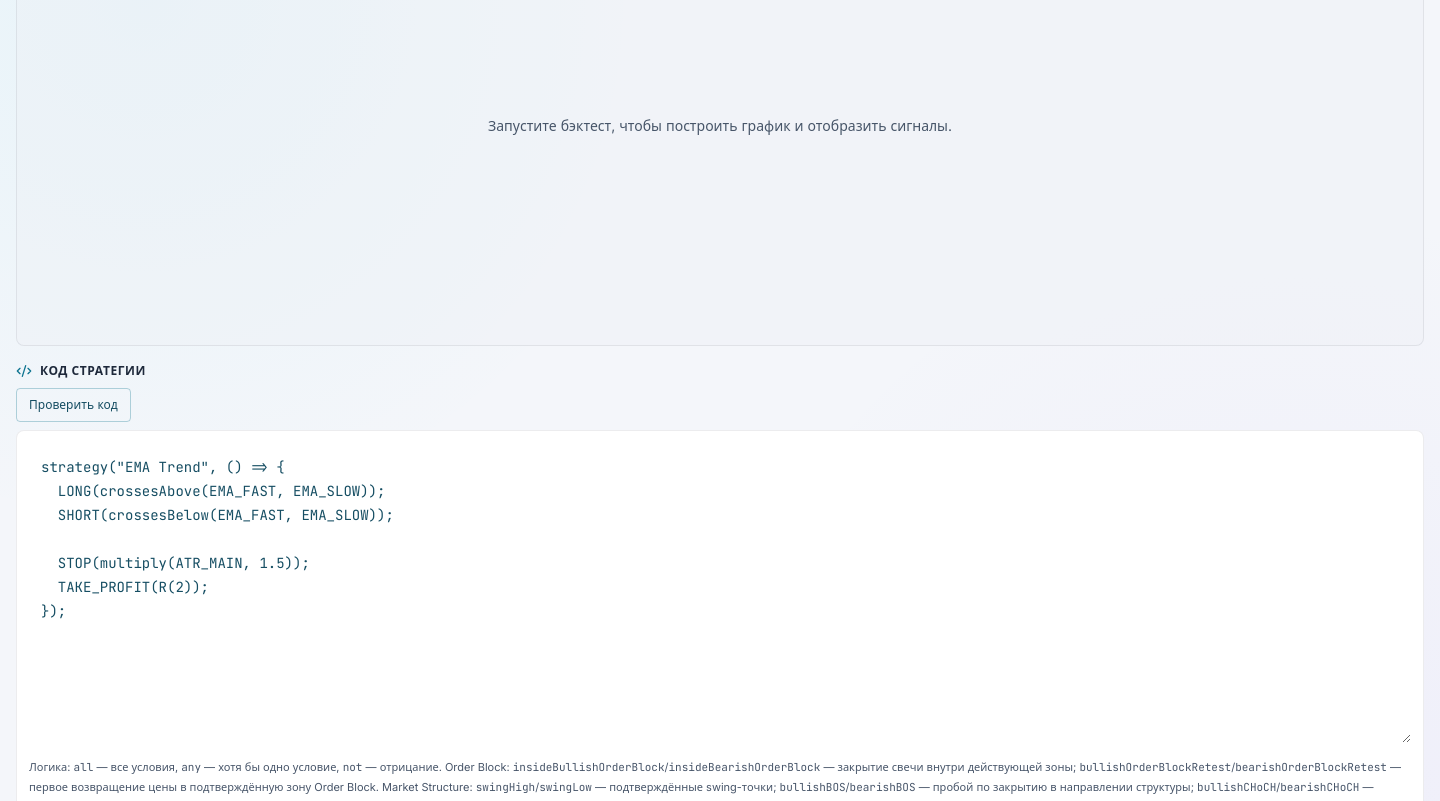
it: A/B. Strategy Lab · code-first страница › H. [Проверить код] подтверждает корректность стартовой стратегии
This screenshot has width=1440, height=801.
(page scrolled)
Click the button "Проверить код": (73, 405) [16,388,131,422]
(page scrolled)
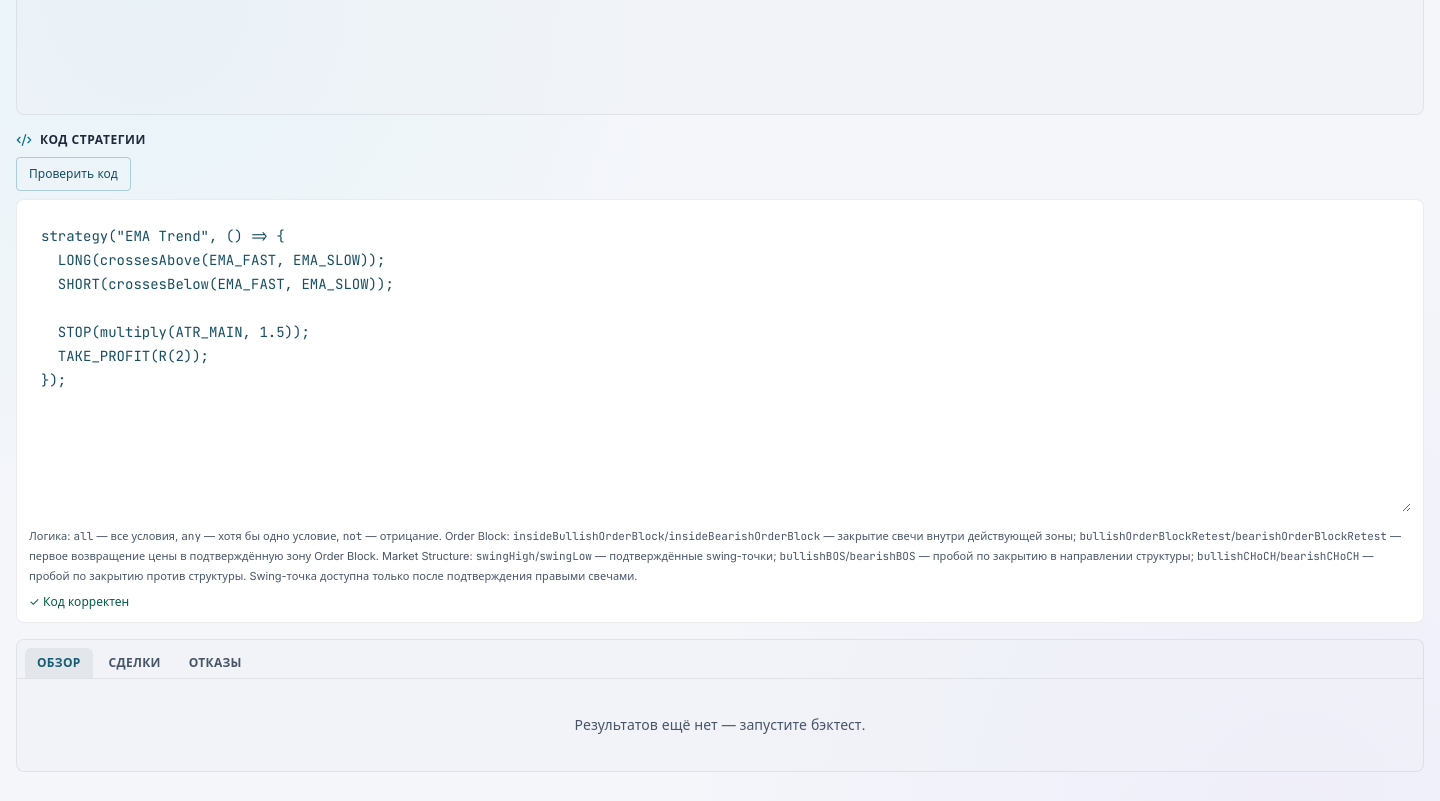
Check: the text "✓ Код корректен" is shown, box [29,594,129,609]
